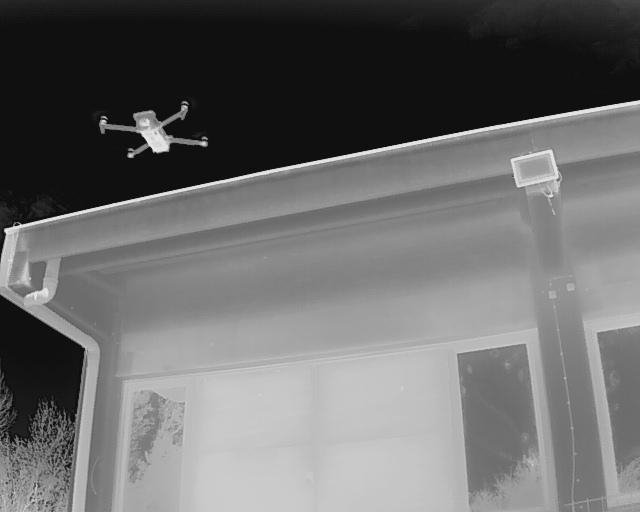drone: (90, 94, 220, 172)
